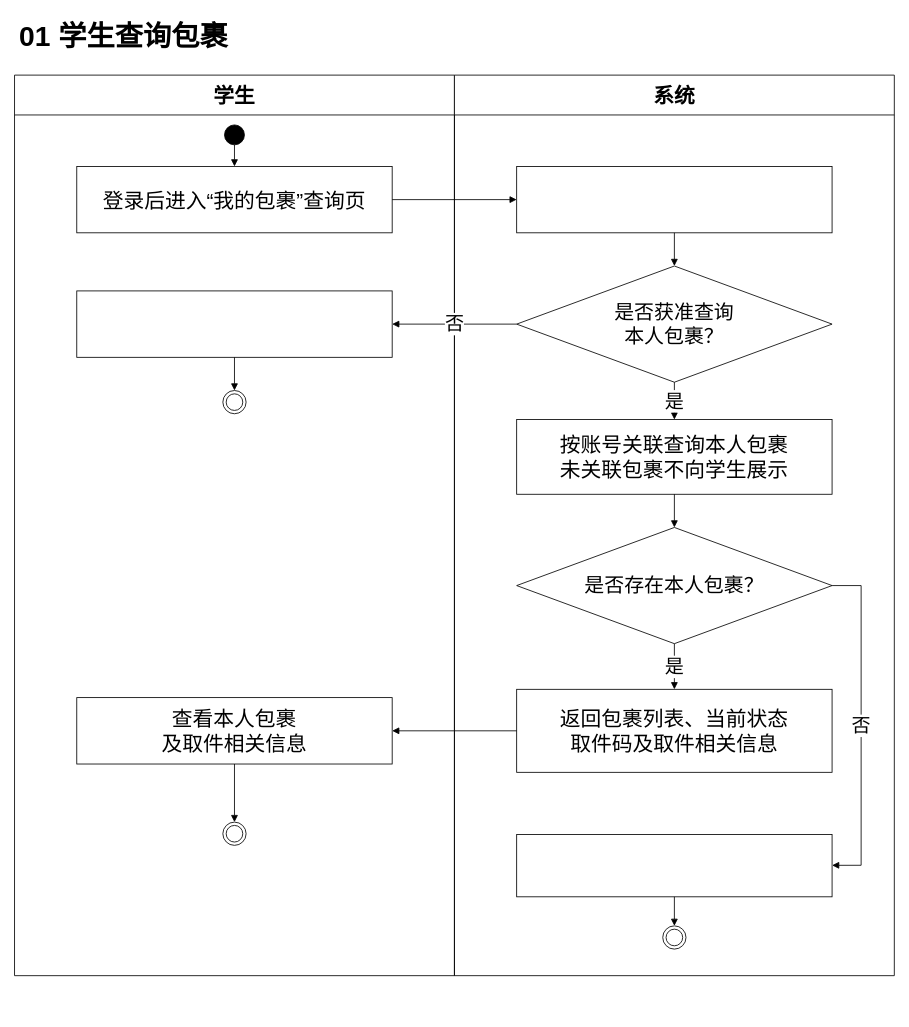
Some shapes in this 909 by 1027 pixel diagram are drawn without their labels. The shapes that lost their labels are listed below. From the top down, each one's centre as x and y in pixels, then its label:
point (674, 199): 校验学生身份与访问范围
point (234, 323): 查看无查询权限提示 未获得包裹信息
point (674, 865): 提示暂无本人包裹记录
point (454, 996): 归属规则：账号手机号变更不自动转移历史包裹，已完成业务保留原账号归属。
